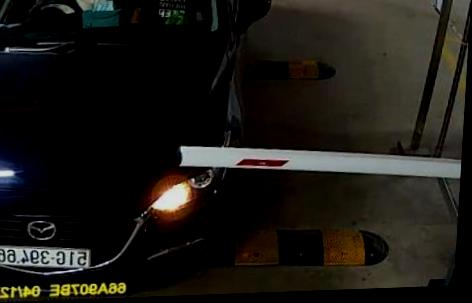License_Plate: (0, 242, 95, 274)
